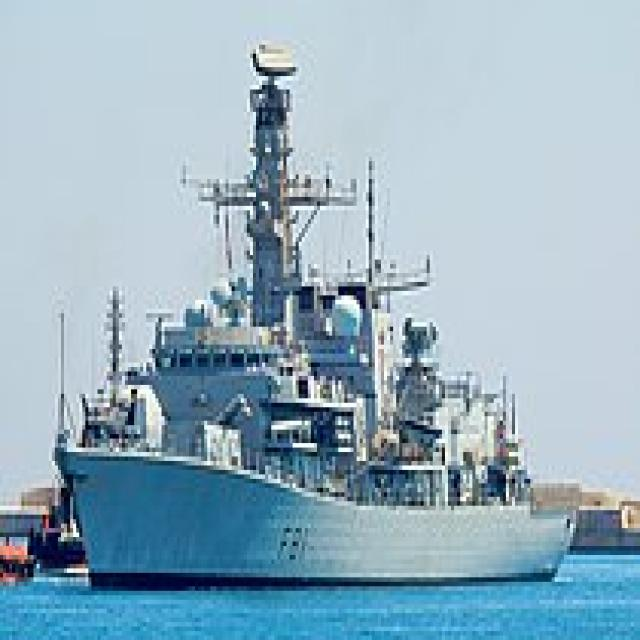Warship: (43, 31, 576, 586)
